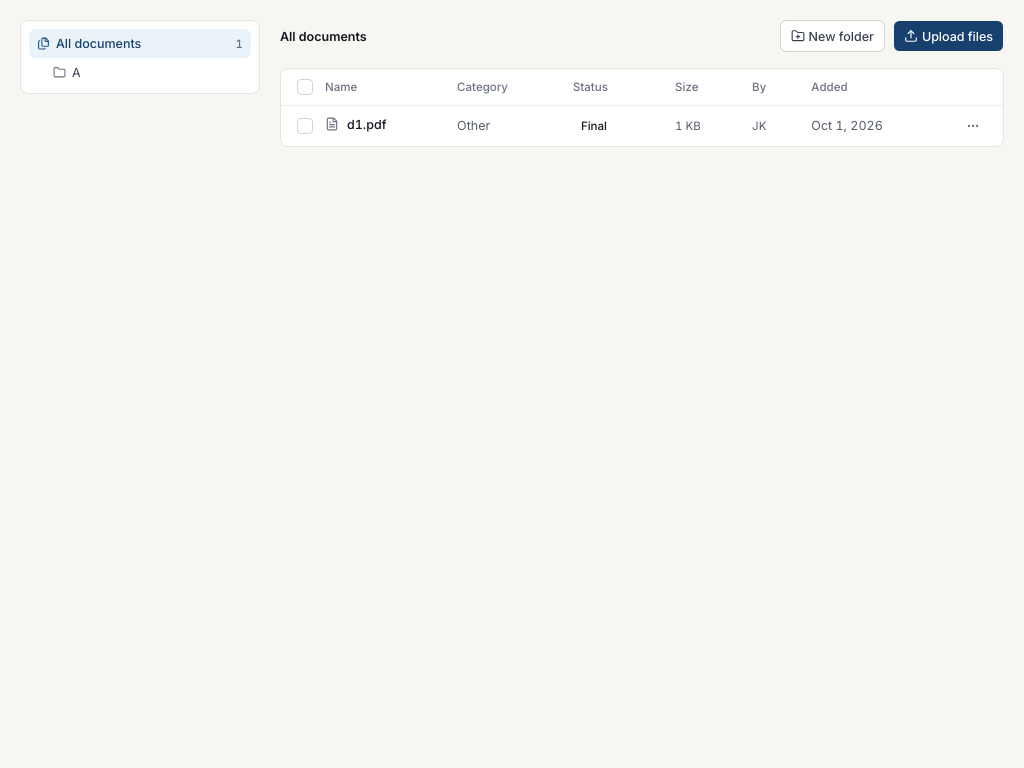
Test case: row menu › Edit details… opens the prefilled dialog
Click the button named "Document actions" at (973, 126), box x1=959 y1=112 x2=987 y2=140
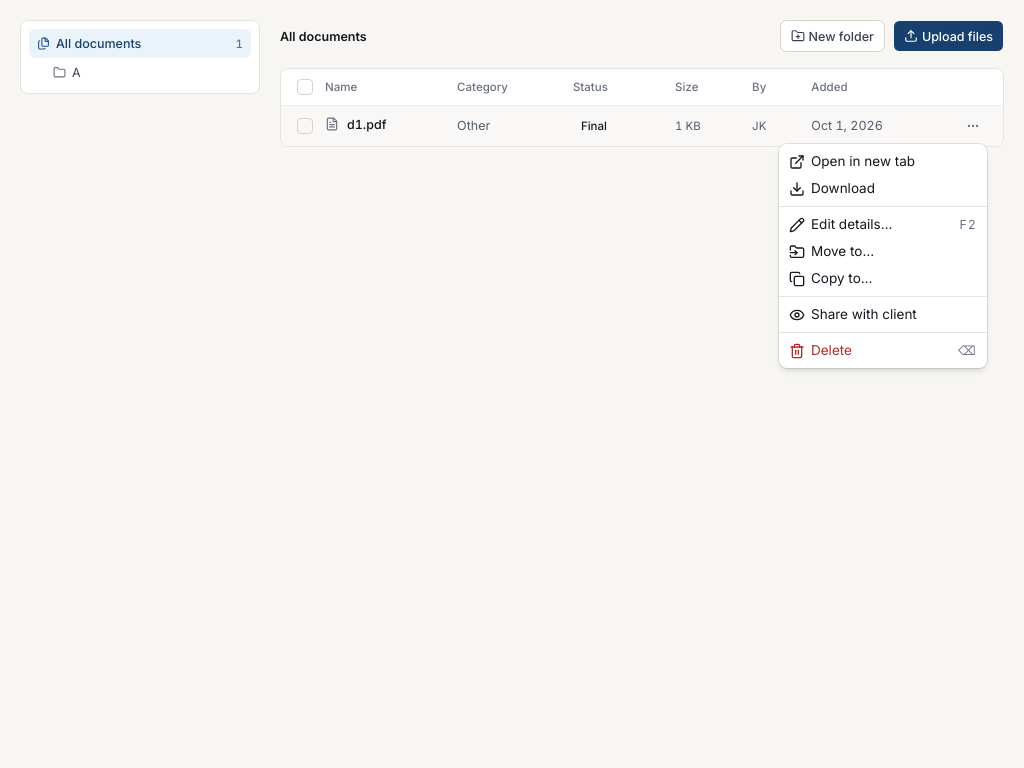
Click the menu item "Edit details… F2" at (883, 224), box x1=783 y1=211 x2=983 y2=238
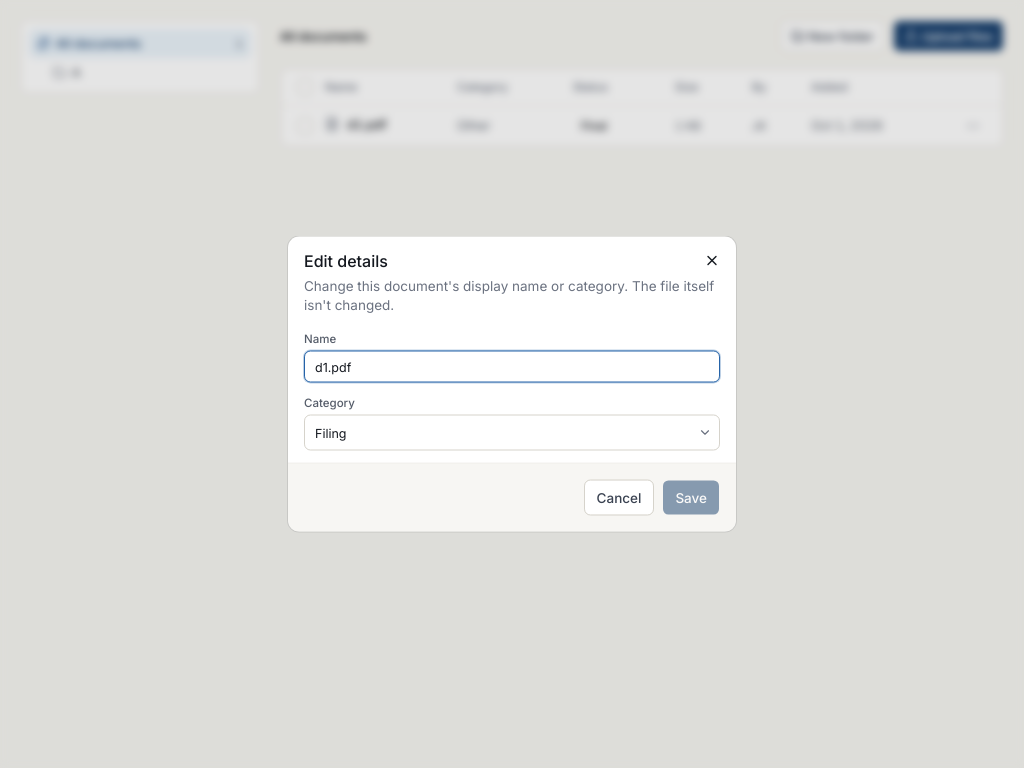
Check: the field labelled "Name" holds "d1.pdf", box x1=304 y1=350 x2=720 y2=382
Check: the dropdown labelled "Category" shows "Filing", box x1=304 y1=414 x2=720 y2=450
